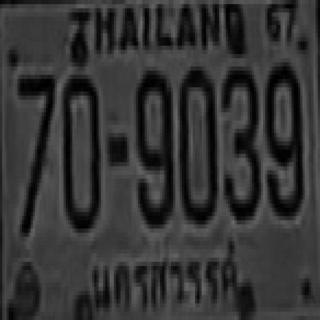N00: (61, 70, 99, 228), (178, 62, 215, 220)
N03: (221, 64, 259, 218)
N07: (15, 71, 53, 233)
N09: (263, 60, 302, 214), (134, 66, 171, 225)
P15: (87, 240, 244, 318)
